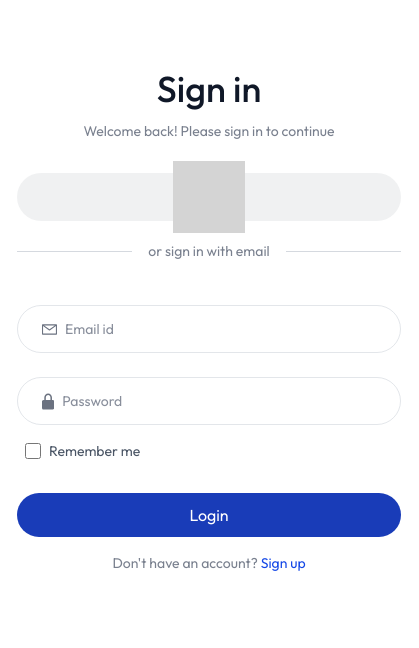
it: Login — sign-up mode validation › blocks submit when passwords don't match
Step 1. Click the button "Sign up" → (283, 563), box [261,553,306,573]
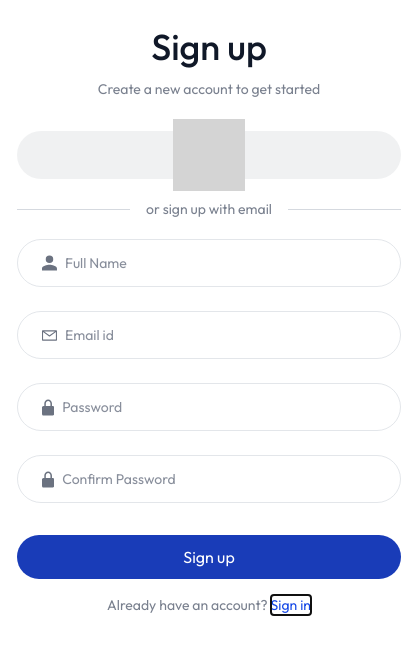
Step 2. Type "Ada" into the field with placeholder "Full Name" → (232, 263), box [65,240,400,286]
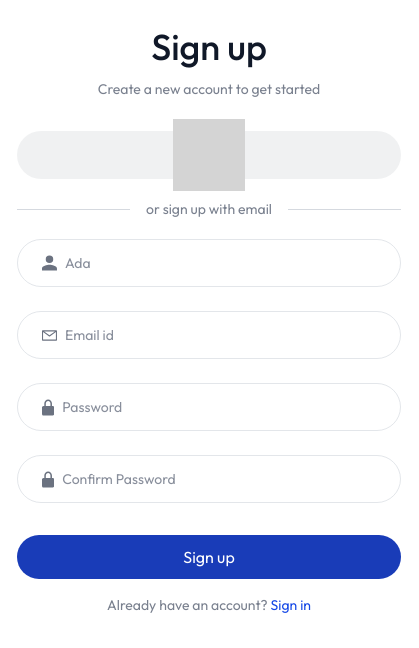
Step 3. Type "ada@x.com" into the field with placeholder "Email id" → (232, 335), box [65,312,400,358]
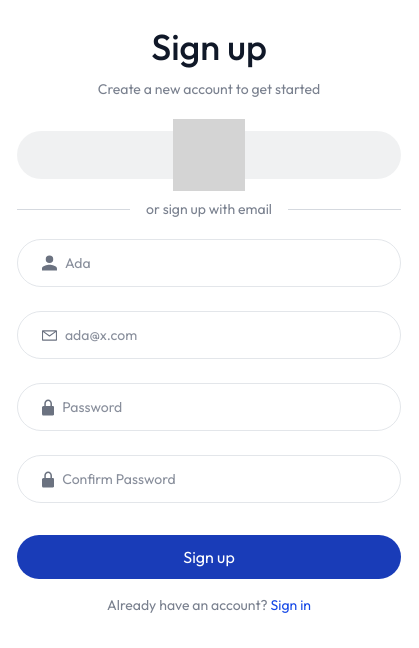
Step 4. Type "longenough" into the password field with placeholder "Password" → (231, 407), box [62,384,400,430]
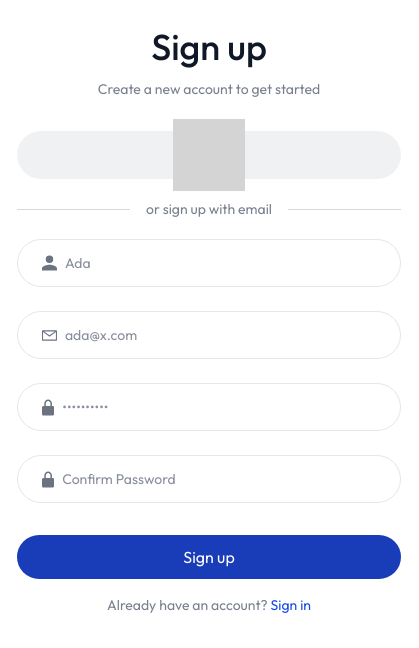
Step 5. Type "mismatch99" into the password field with placeholder "Confirm Password" → (231, 479), box [62,456,400,502]
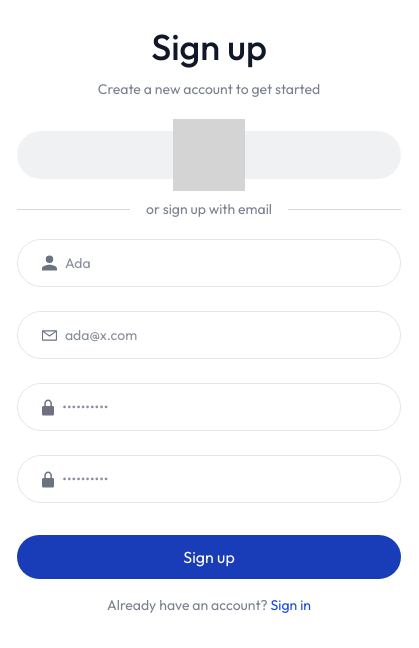
Step 6. Click the button "Sign up" → (209, 557), box [17,535,401,579]
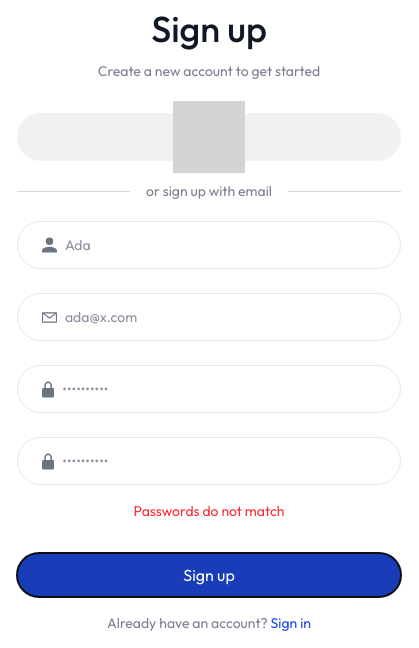
Expected: the text "Passwords do not match" is shown, [134,501,284,521]
